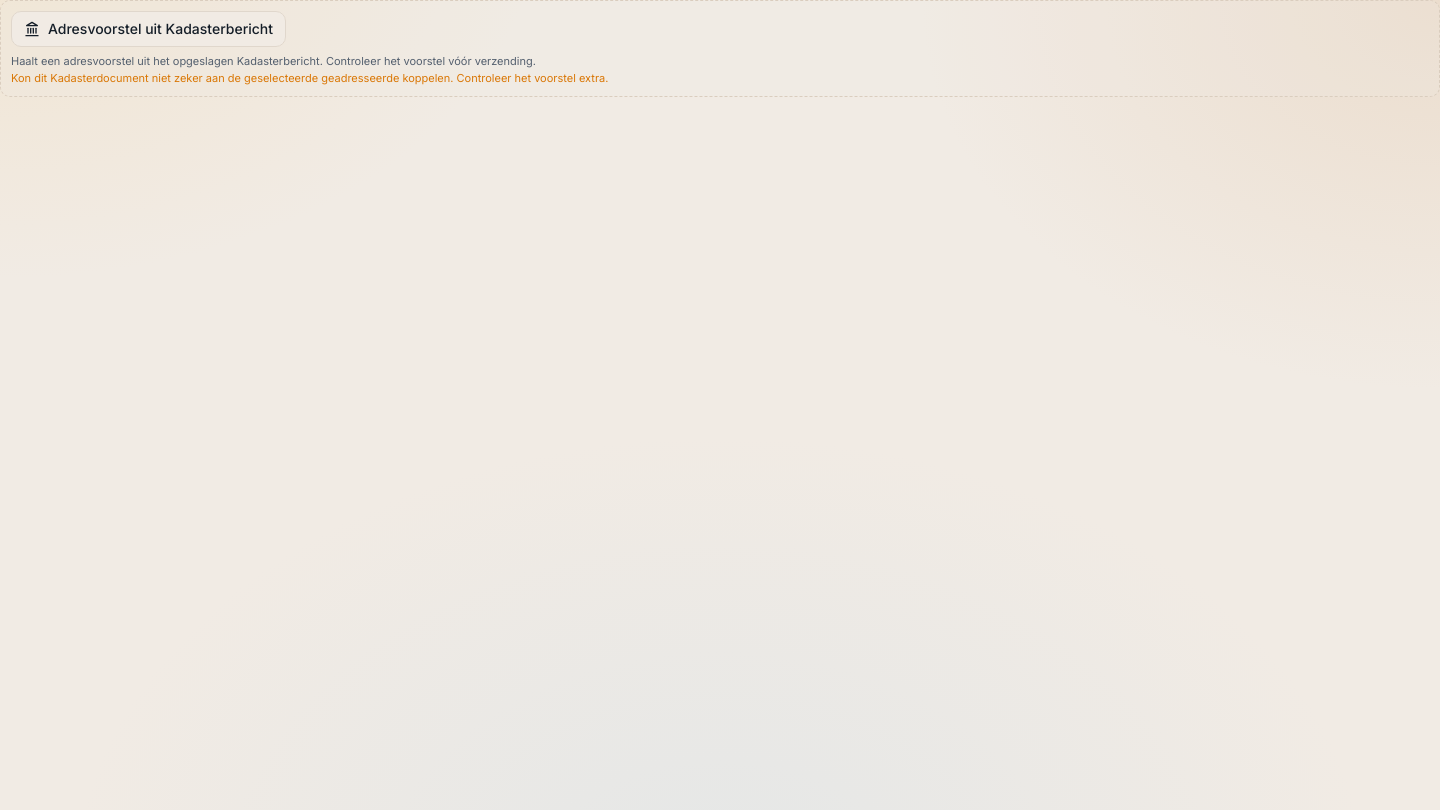
Scenario: KadasterPdfAdresVoorstelPanel · labels en matching › toont meldingsregel en blokkeert overnemen als geen unieke match
Later steps or results of the test are not shown.
Click the button with test id "kpv-start-knop".
click(148, 29)  # box [11,11,286,47]
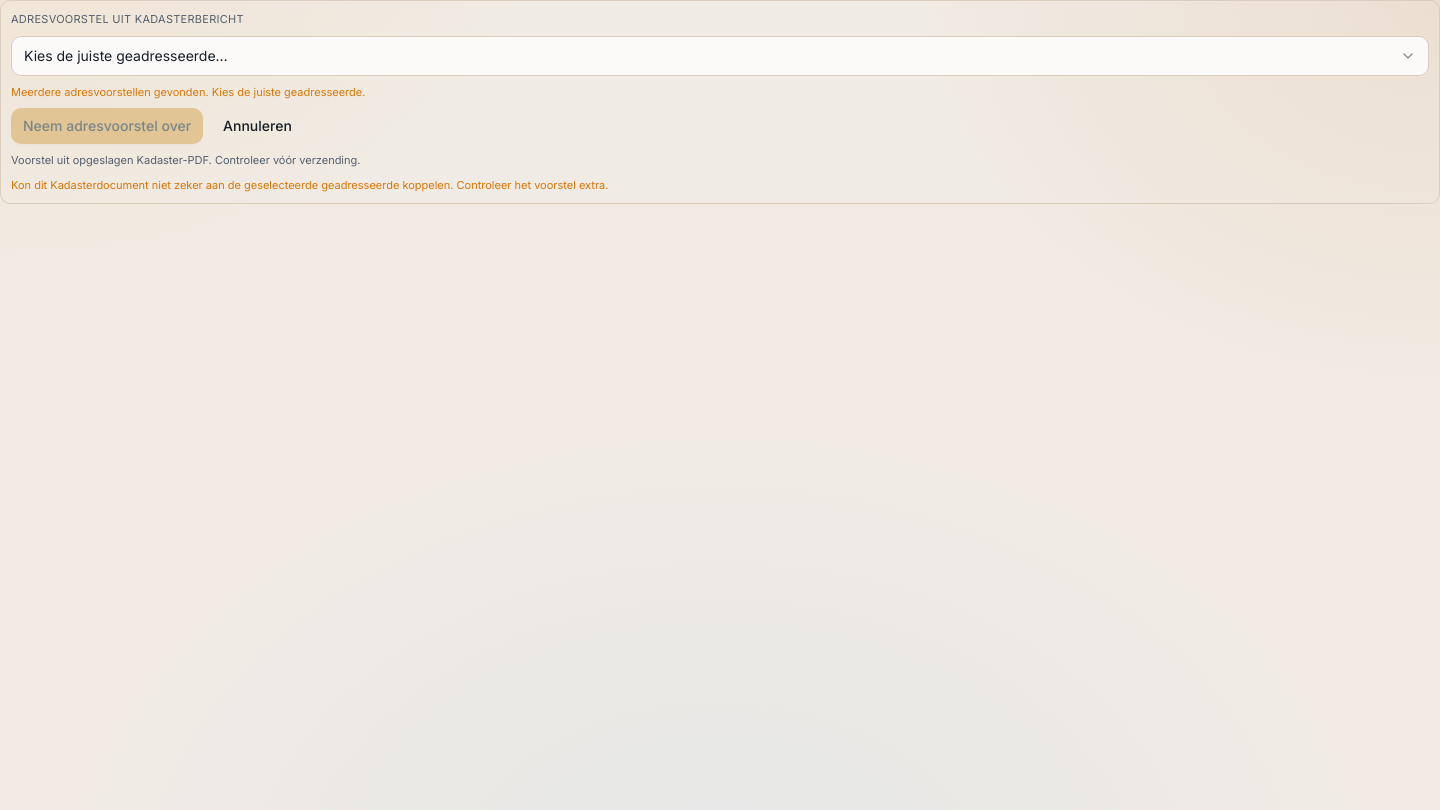
expect the text with test id "kpv-meerdere-melding" is shown: met, box [11,84,365,98]
expect the button with test id "kpv-overnemen" is disabled: met, box [11,108,203,144]
